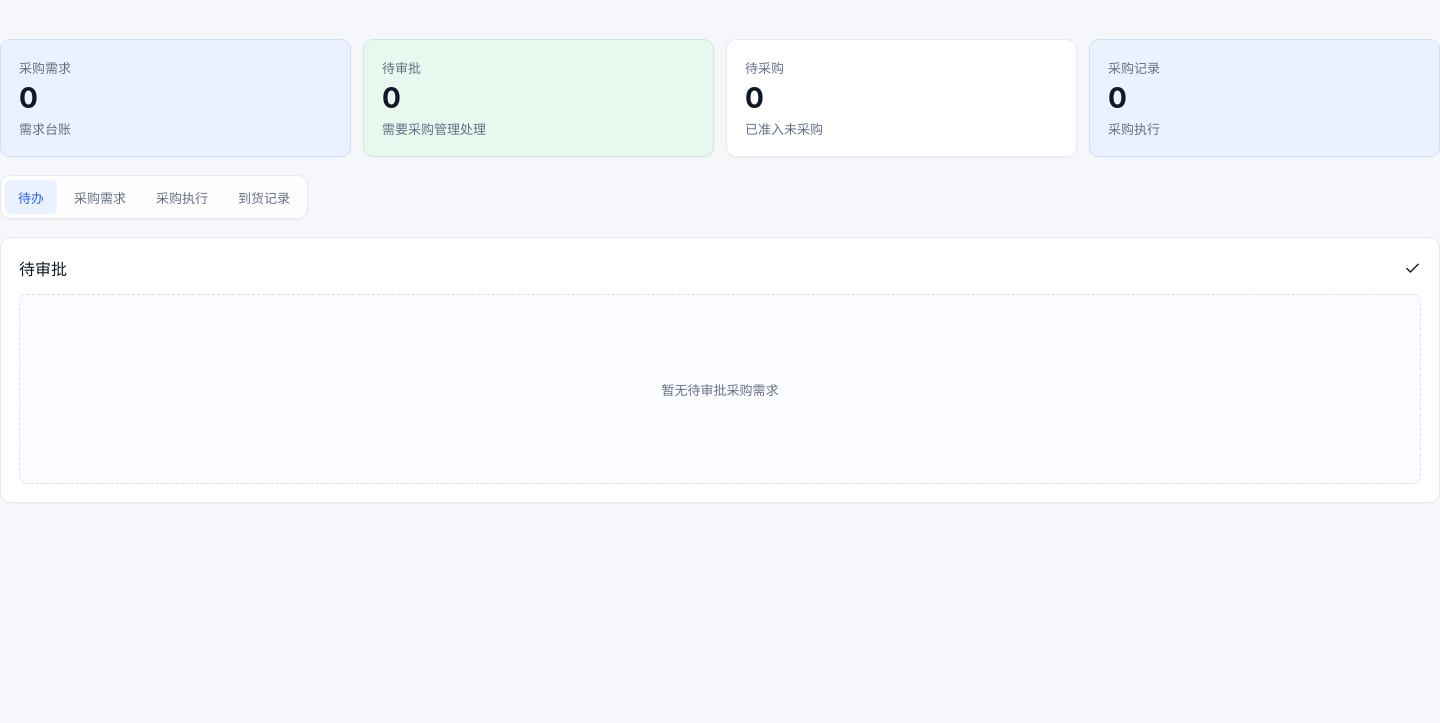
Scenario: Company ERP workspace components › paginates purchase records server-side and reflects the exact total
Click the tab "采购执行". click: coordinates (182, 198)
box: [143,180,221,214]
(page scrolled)
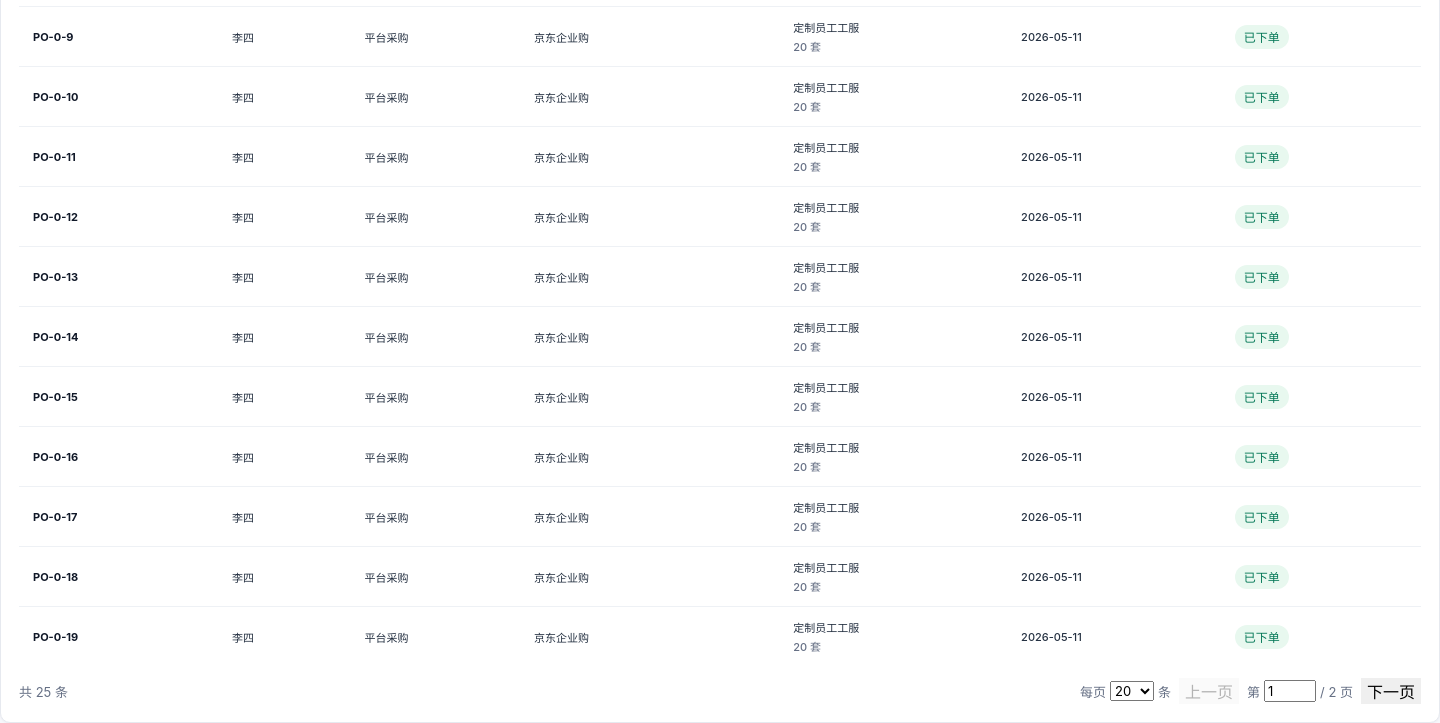
Result: the text "共 25 条" is shown at [19,682,68,701]
Result: the number field named "跳转到页码" holds "1" at [1264,680,1316,702]
Result: the button "上一页" is disabled at [1179,678,1239,704]
Click the button "下一页". click: coordinates (1391, 692)
box: [1361,678,1421,704]
(page scrolled)
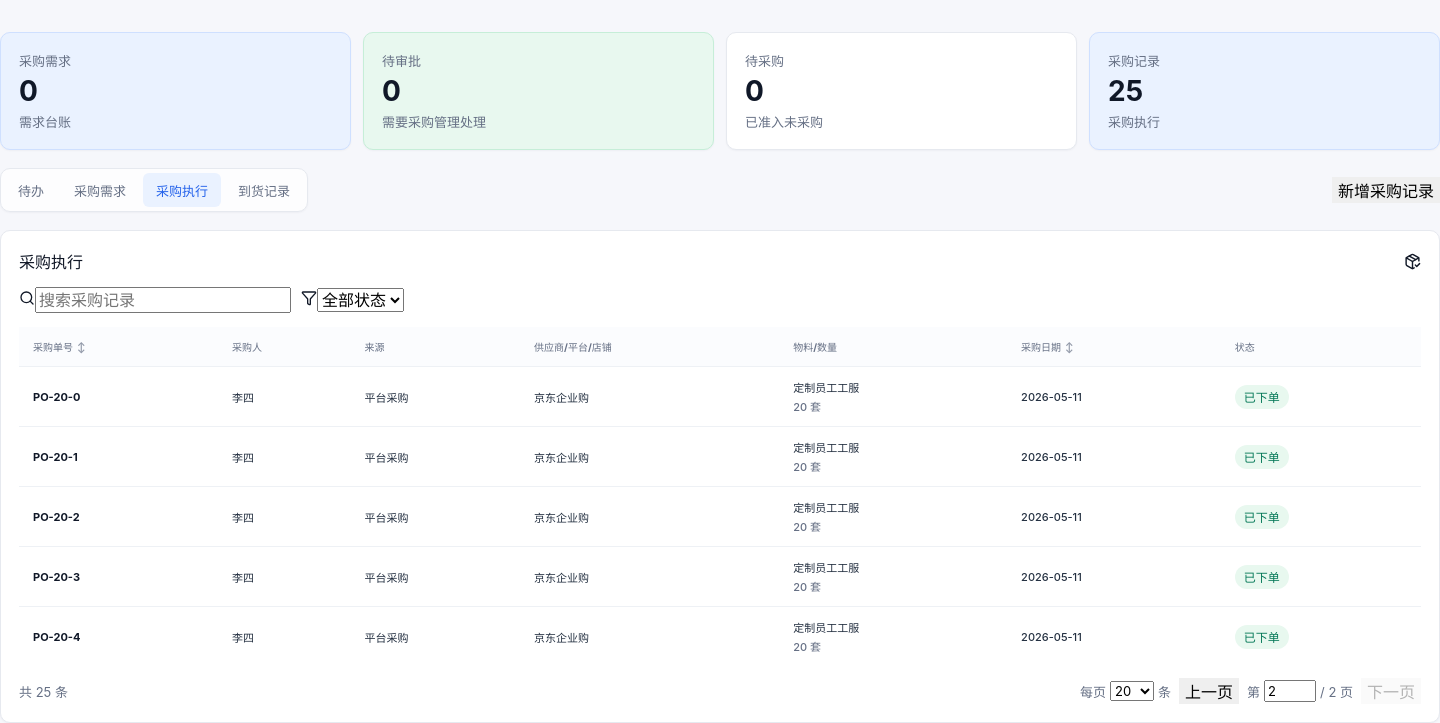
Result: the number field named "跳转到页码" holds "2" at [1264,680,1316,702]
Result: the button "下一页" is disabled at [1361,678,1421,704]
Result: the button "上一页" is enabled at [1179,678,1239,704]
